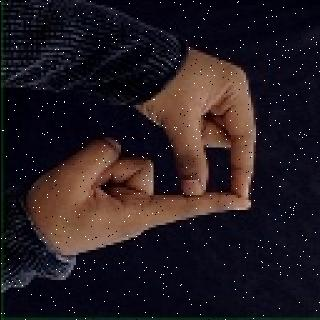P: (13, 46, 271, 260)
